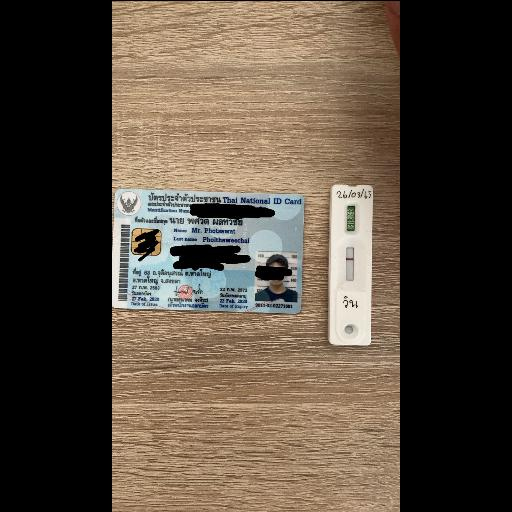Neg: (330, 186, 370, 344)
